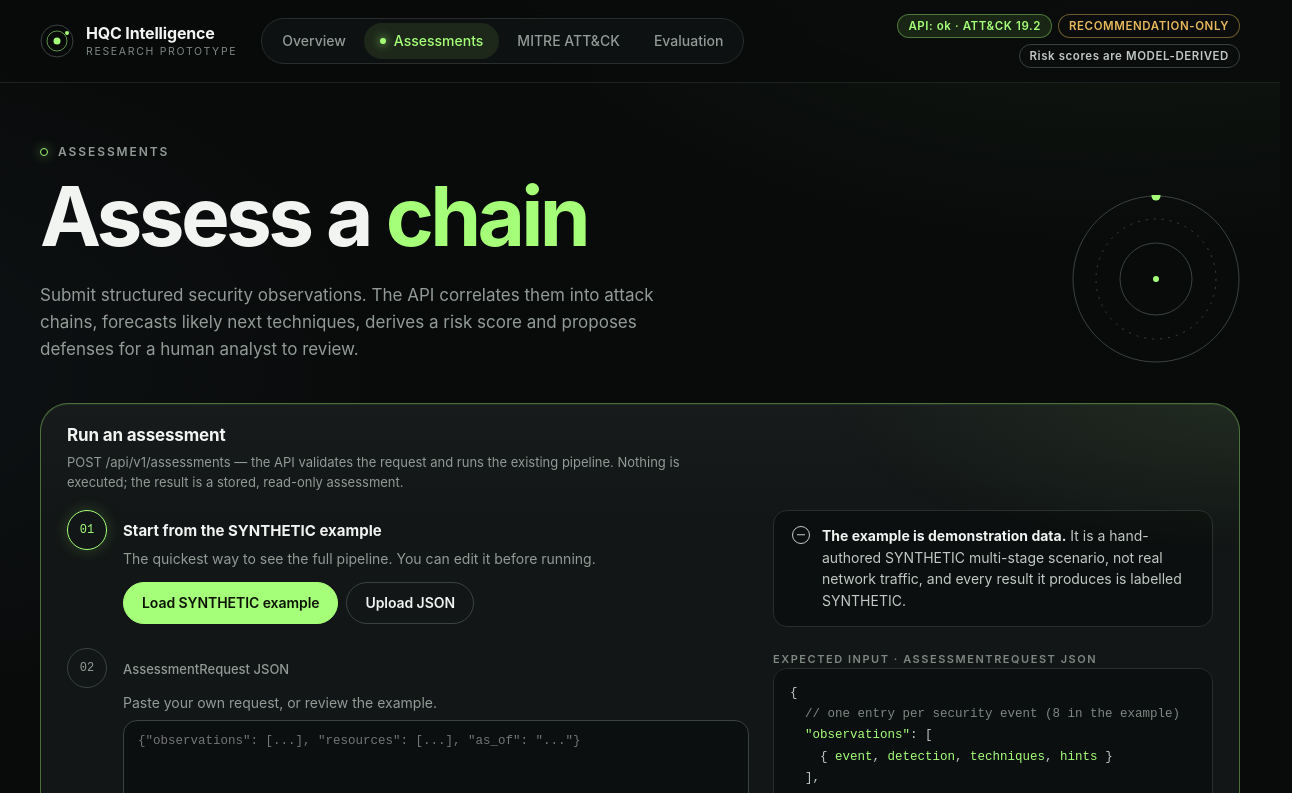
Scenario: assessment submission › loads the synthetic example, submits it and navigates to the result
Click the button "Load SYNTHETIC example" at coordinates (231, 603), box x1=123 y1=582 x2=338 y2=624
(page scrolled)
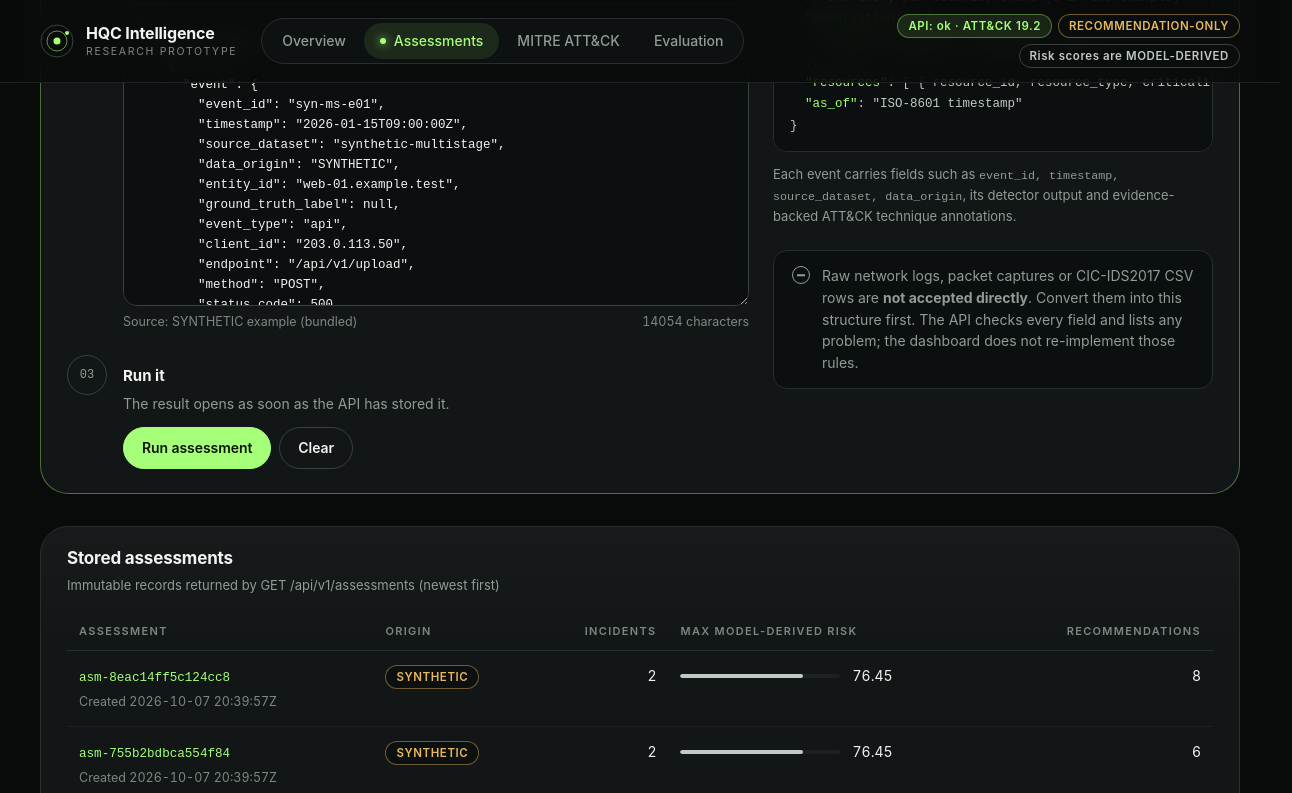
Click the button "Run assessment" at coordinates (197, 448), box x1=123 y1=427 x2=271 y2=469
(page scrolled)
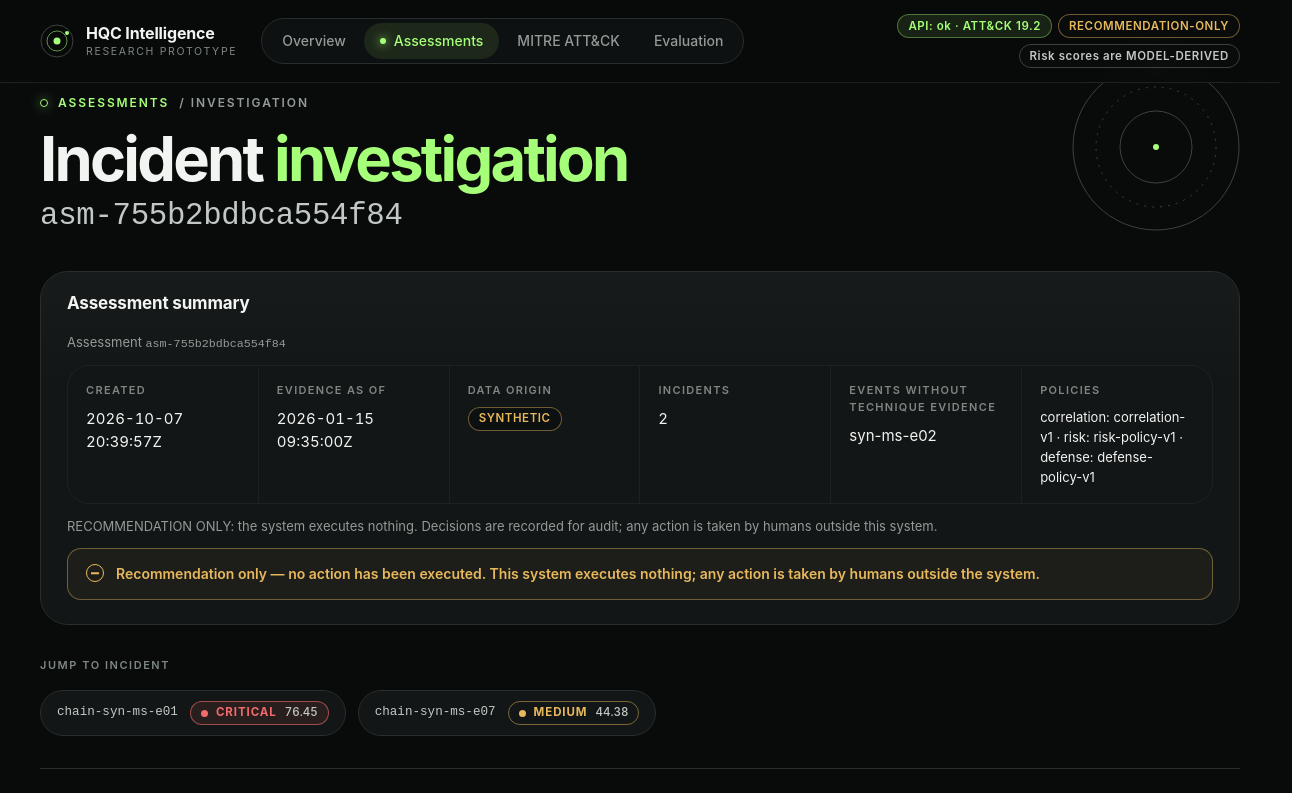
Result: the element with test id "assessment-header" shows "asm-755b2bdbca554f84" at x1=146 y1=336 x2=286 y2=350
